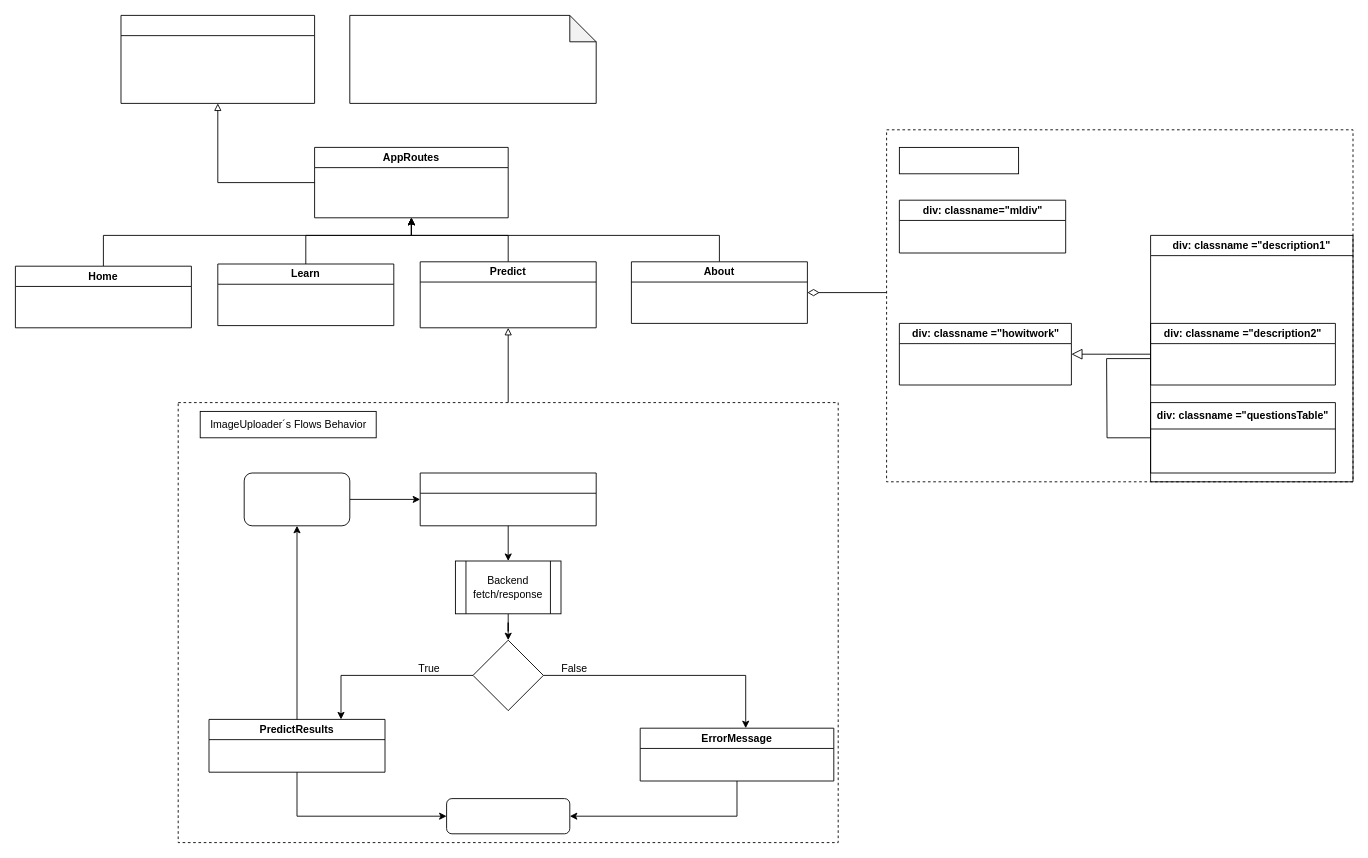
This 1368x858 diagram has some shape labels left out. The shapes that lost their labels are listed below. From the top down, each one's box as (x1, y1, x2, y2) in pixels, then its label:
(120, 15, 315, 103): FrontEnd
(349, 15, 596, 103): FrontEnd Component's Flow Chart
(898, 147, 1019, 174): div: classname: "about"
(243, 472, 350, 526): Button "Upload another image"
(419, 472, 596, 526): ImageUploader
(472, 639, 543, 711): Successfull Upload
(446, 798, 570, 834): Button "Go to predict"
